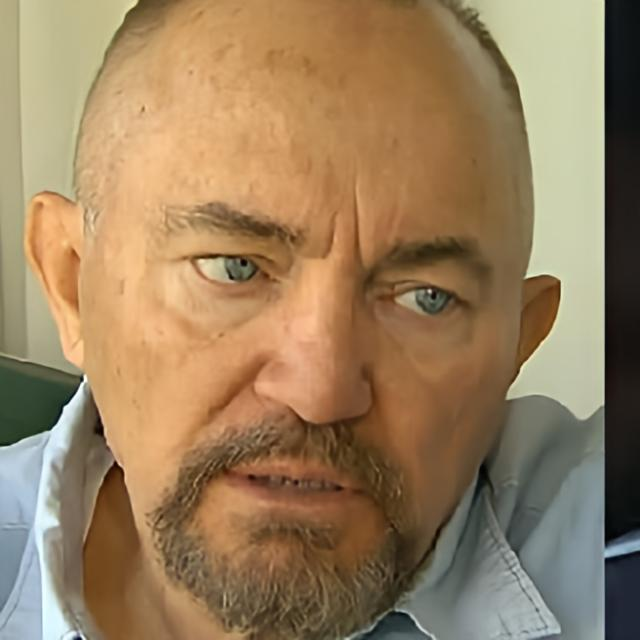anger: (100, 71, 521, 636)
